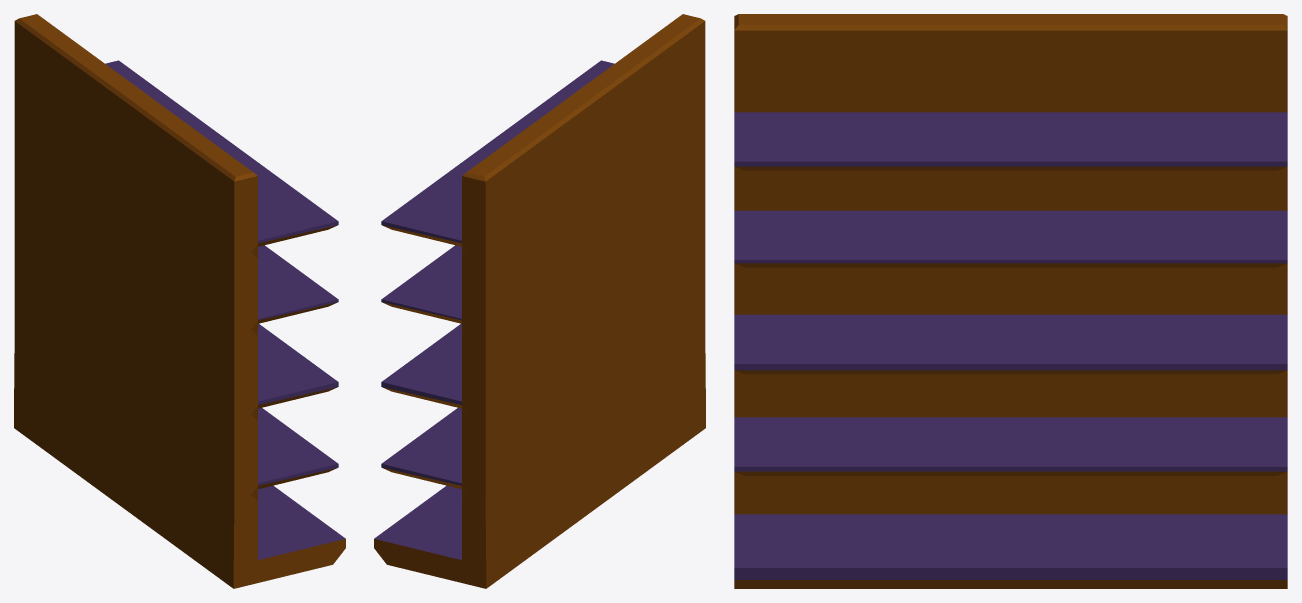
File: BigShelf.fbx
3 renders of one model, left to right at view 1: azimuth 30°, elevation 25°; view 2: azimuth 150°, elevation 25°; view 3: azimuth 270°, elevation 25°, orthographic. The views are drawn at different scales.
Parts seen in each view (by area): view 1: Shelf_Large; view 2: Shelf_Large; view 3: Shelf_Large.
Part boxes in pixels (x1,y1,x2,y2): Shelf_Large: (14,14,345,588); Shelf_Large: (374,14,705,588); Shelf_Large: (734,14,1287,588).
Size of the model in its own units: 58.97 by 206 by 200.
